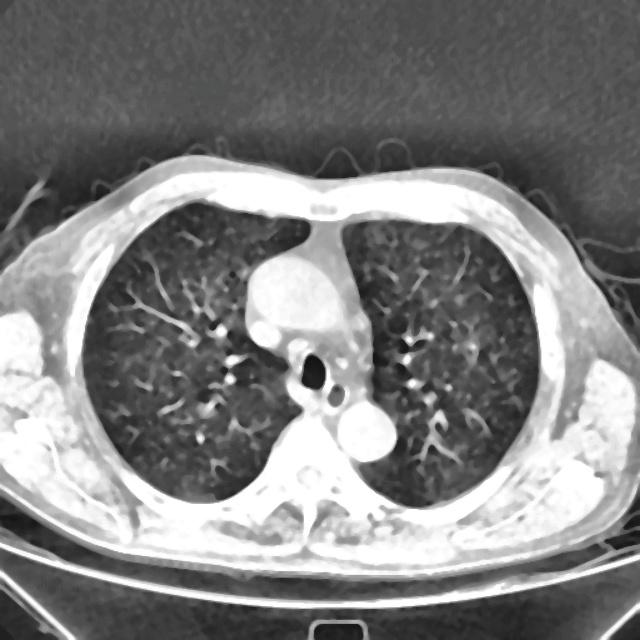covid: (0, 151, 639, 584)
